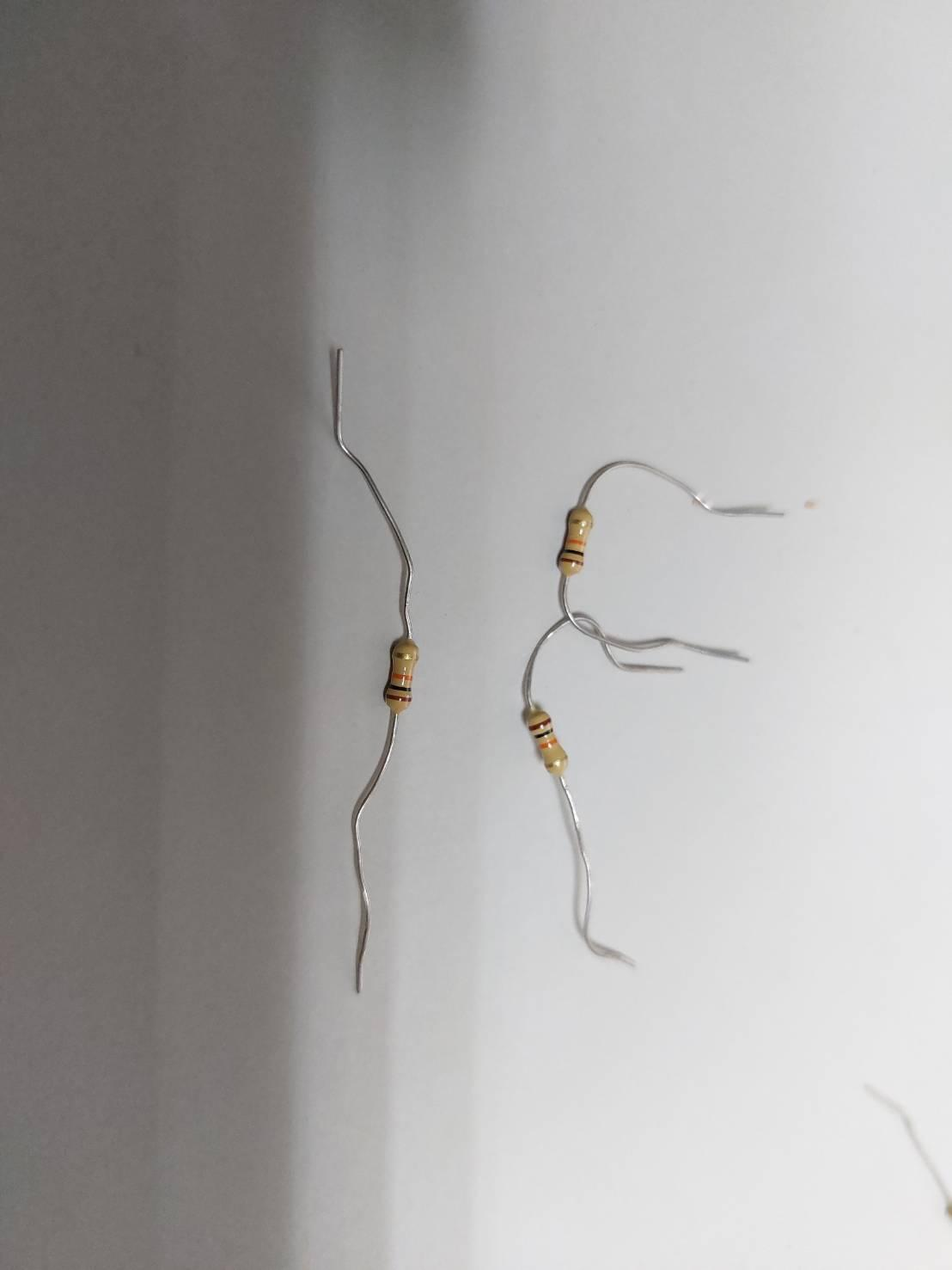resistor: (523, 710, 572, 779), (382, 633, 421, 717), (556, 507, 594, 579)
